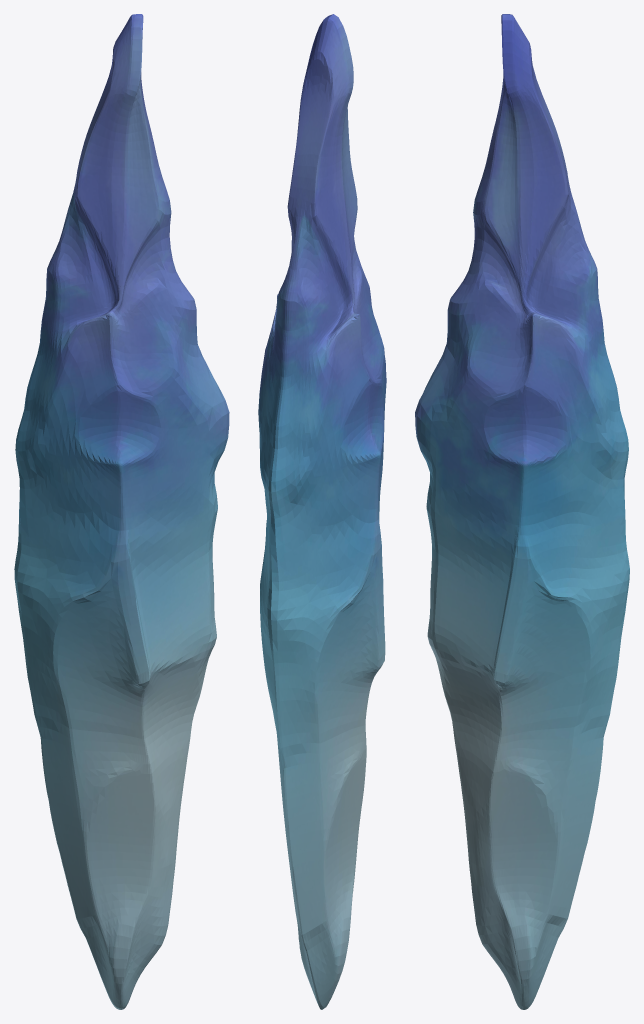
The model's file is crystal.glb.
The picture shows the model from 3 angles, left to right: view 1: azimuth 90°, elevation 25°; view 2: azimuth 150°, elevation 25°; view 3: azimuth 270°, elevation 25°; orthographic projection.
Parts seen in each view (by area): view 1: tripo_node_2890c445-4db2-454b-aa70-abe57b84ca4c; view 2: tripo_node_2890c445-4db2-454b-aa70-abe57b84ca4c; view 3: tripo_node_2890c445-4db2-454b-aa70-abe57b84ca4c.
Part boxes in pixels (x1,y1,x2,y2): tripo_node_2890c445-4db2-454b-aa70-abe57b84ca4c: (14,14,229,1009); tripo_node_2890c445-4db2-454b-aa70-abe57b84ca4c: (258,14,386,1009); tripo_node_2890c445-4db2-454b-aa70-abe57b84ca4c: (415,14,629,1009).
Size of the model in its own units: 0.4571 by 3.76 by 0.7364.
1 material, 1 textured.
